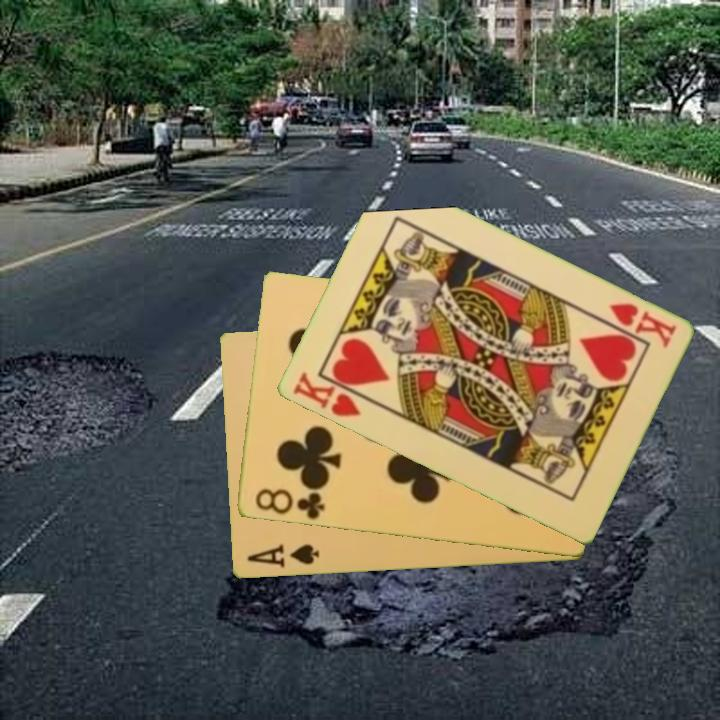8c: (251, 485, 328, 523)
As: (243, 541, 322, 571)
Kh: (288, 368, 373, 420), (605, 299, 679, 351)
